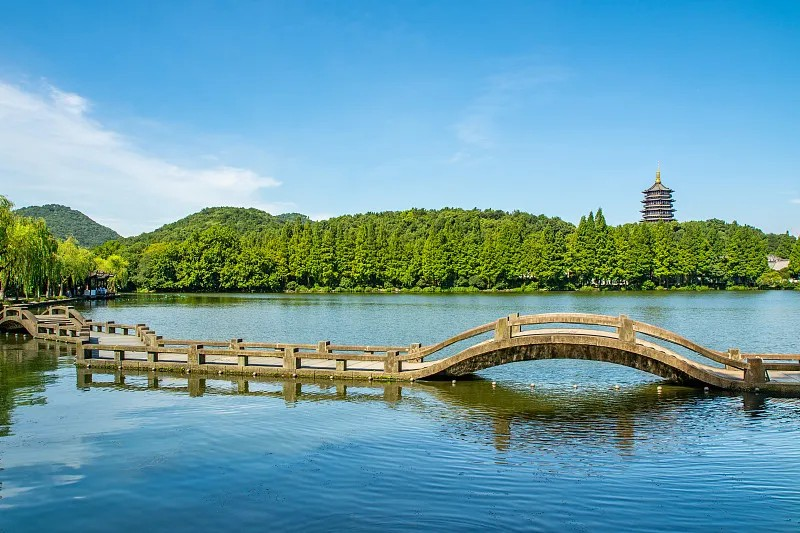Leifeng: (640, 161, 677, 227)
